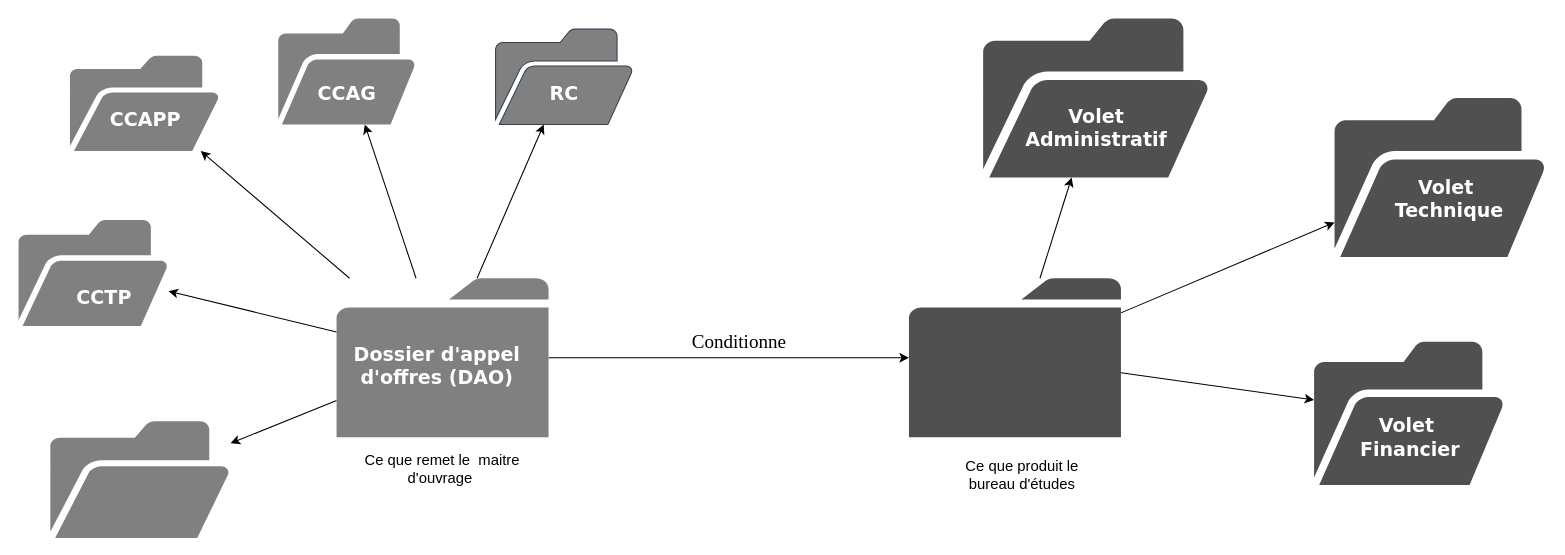
This 1565x555 diagram has some shape labels left out. Here are the shapes that lost their labels. From the top down, the centre of each, then its label:
At (x=1014, y=357): "Dossier de réponse du BE".
At (x=140, y=479): "Pièces annexes".
